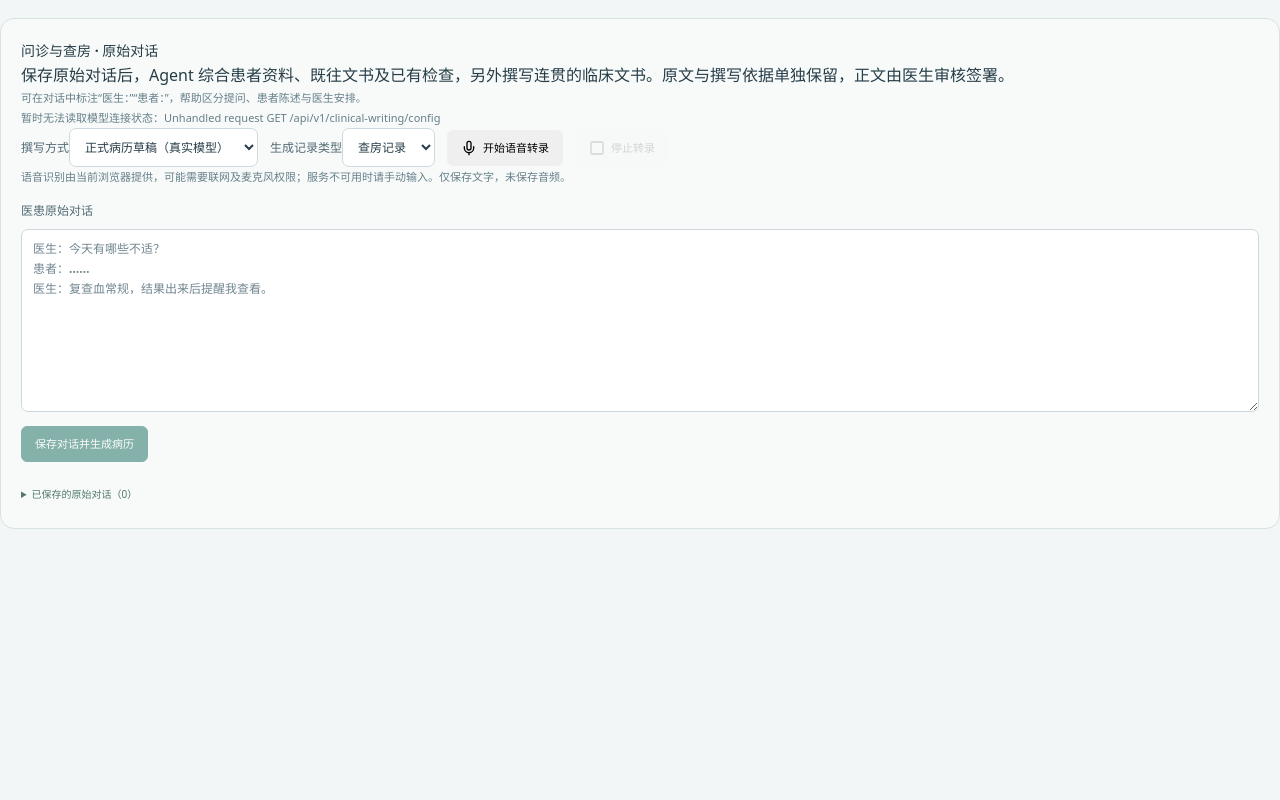
interview transcription › keeps confirmed speech, shows interim text and stops the microphone when leaving
Click the button "开始语音转录" at (505, 148), box [447, 130, 563, 166]
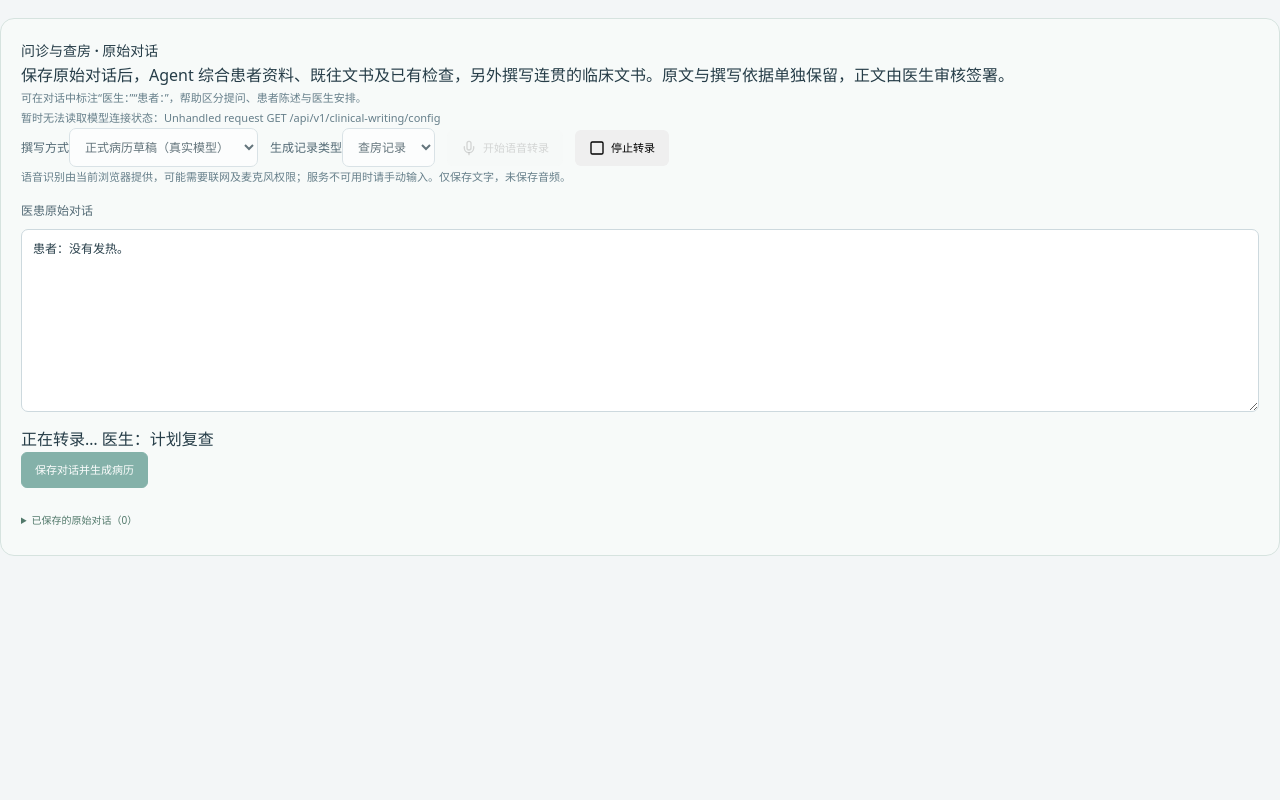
Expected: the button "保存对话并生成病历" is disabled, [21, 452, 148, 488]
Now the text box labelled "医患原始对话" holds "患者：没有发热。", box [21, 229, 1259, 412]
Now the message shows "医生：计划复查", box [102, 428, 214, 450]
